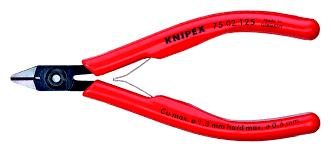pliers: (9, 9, 320, 140)
